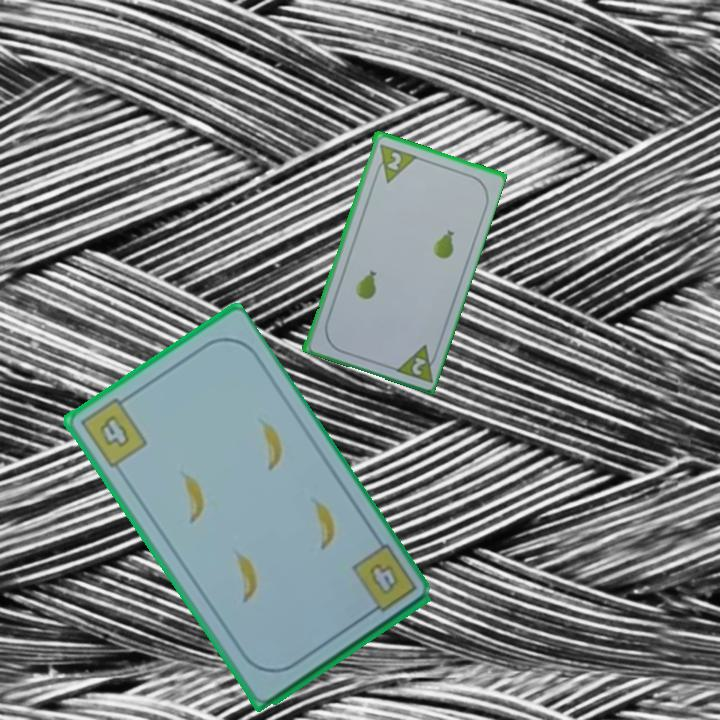2p: (390, 340, 441, 385), (383, 148, 404, 173)
4b: (76, 391, 150, 471), (348, 541, 420, 620)
